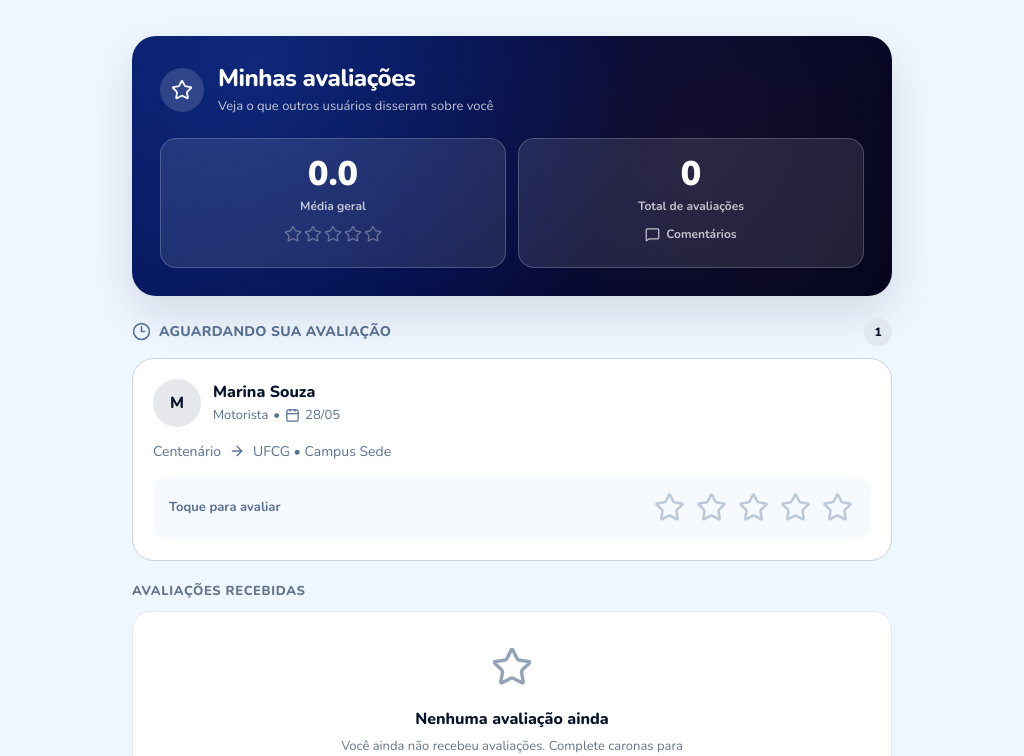
it: AvaliacoesRecebidas › lista avaliações pendentes e envia a nota sem recarregar
Expected: the text "Marina Souza" is shown, [213,381,315,403]
Expected: the text "Centenário" is shown, [153,441,221,462]
Click the button named "5 estrelas".
click(838, 508)  # box [820,490,855,525]
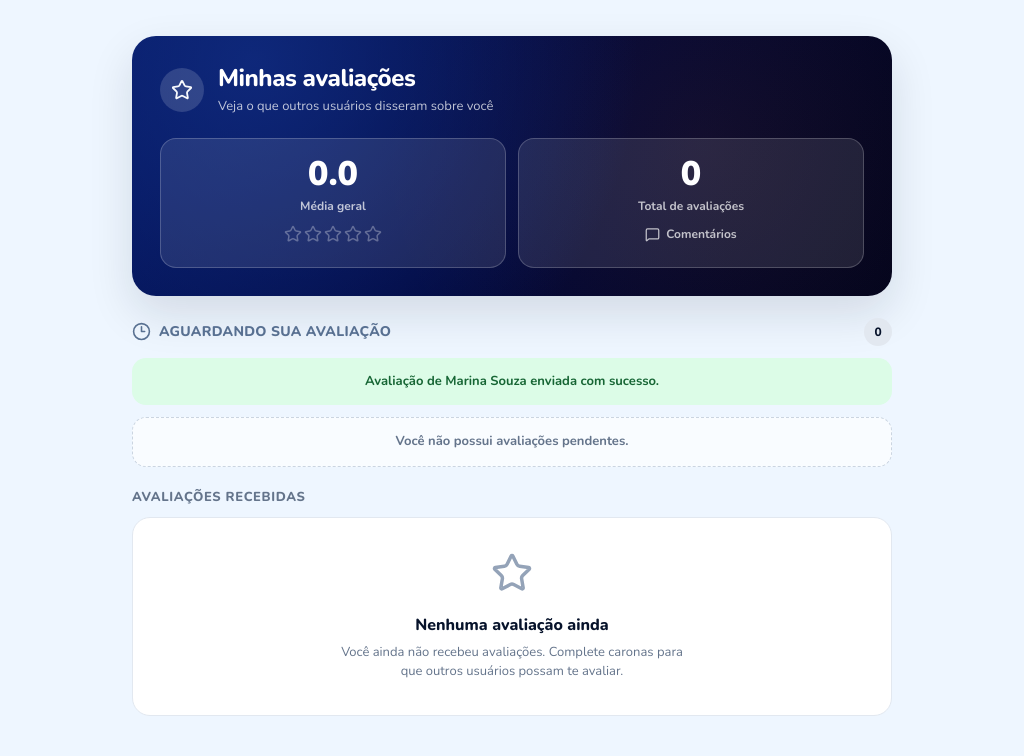
Result: the text "Avaliação de Marina Souza enviada com sucesso." is shown at [132,358,892,405]
